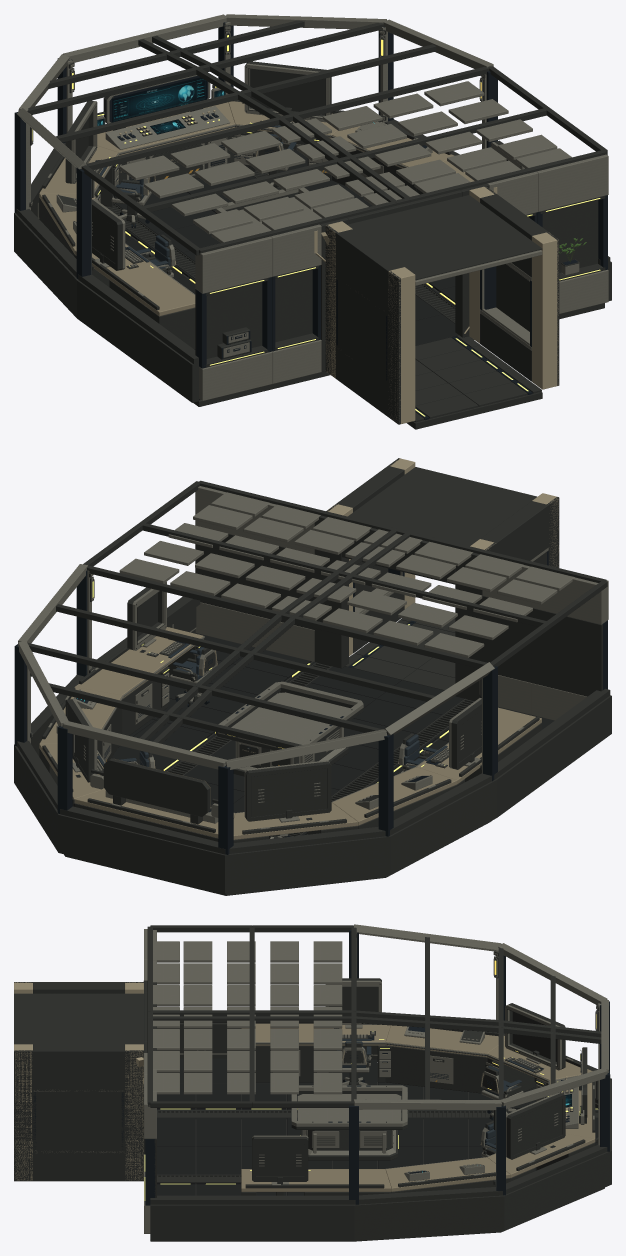
File: cruz-del-sur-bridge-interior.glb
The picture shows the model from 3 angles, top to bottom: view 1: azimuth 30°, elevation 25°; view 2: azimuth 150°, elevation 25°; view 3: azimuth 270°, elevation 25°; orthographic projection. The views are drawn at different scales.
Parts seen in each view (by area): view 1: BRIDGE_RUNTIME_BRIDGE_V15_Graphite_, BRIDGE_RUNTIME_BRIDGE_V15_Metal_, BRIDGE_RUNTIME_BRIDGE_V15_Gasket_, BRIDGE_RUNTIME_BRIDGE_V15_Ivory_, BRIDGE_RUNTIME_BRIDGE_Counter_finish_, BRIDGE_RUNTIME_BRIDGE_Deck_finish_, BRIDGE_RUNTIME_BRIDGE_Central_navigation_, BRIDGE_RUNTIME_BRIDGE_V15_Graphite_communications, BRIDGE_RUNTIME_BRIDGE_V15_Graphite_arcade, BRIDGE_RUNTIME_BRIDGE_V15_Graphite_computer, BRIDGE_RUNTIME_BRIDGE_Upholstery_, BRIDGE_RUNTIME_BRIDGE_V15_Amber_ (+3 smaller); view 2: BRIDGE_RUNTIME_BRIDGE_V15_Graphite_, BRIDGE_RUNTIME_BRIDGE_V15_Metal_, BRIDGE_RUNTIME_BRIDGE_Deck_finish_, BRIDGE_RUNTIME_BRIDGE_Counter_finish_, BRIDGE_RUNTIME_BRIDGE_V15_Gasket_, BRIDGE_RUNTIME_BRIDGE_V15_Metal_tactical, BRIDGE_RUNTIME_BRIDGE_V15_Graphite_computer, BRIDGE_RUNTIME_BRIDGE_V15_Graphite_arcade, BRIDGE_RUNTIME_BRIDGE_V15_Graphite_tactical, BRIDGE_RUNTIME_BRIDGE_V15_Graphite_personal, BRIDGE_RUNTIME_BRIDGE_V15_Ivory_, BRIDGE_RUNTIME_BRIDGE_Upholstery_ (+2 smaller); view 3: BRIDGE_RUNTIME_BRIDGE_V15_Graphite_, BRIDGE_RUNTIME_BRIDGE_V15_Metal_, BRIDGE_RUNTIME_BRIDGE_Deck_finish_, BRIDGE_RUNTIME_BRIDGE_Counter_finish_, BRIDGE_RUNTIME_BRIDGE_V15_Gasket_, BRIDGE_RUNTIME_BRIDGE_V15_Metal_tactical, BRIDGE_RUNTIME_BRIDGE_V15_Ivory_, BRIDGE_RUNTIME_BRIDGE_V15_Graphite_personal, BRIDGE_RUNTIME_BRIDGE_V15_Graphite_communications, BRIDGE_RUNTIME_BRIDGE_V15_Graphite_tactical, BRIDGE_RUNTIME_BRIDGE_V15_Graphite_computer, BRIDGE_RUNTIME_BRIDGE_V15_Graphite_arcade (+4 smaller).
Boxes of the visible parts, bbox=[...] form: BRIDGE_RUNTIME_BRIDGE_V15_Graphite_: bbox=[14, 20, 611, 429]; BRIDGE_RUNTIME_BRIDGE_V15_Metal_: bbox=[17, 14, 608, 400]; BRIDGE_RUNTIME_BRIDGE_V15_Gasket_: bbox=[14, 22, 607, 420]; BRIDGE_RUNTIME_BRIDGE_V15_Ivory_: bbox=[98, 110, 558, 423]; BRIDGE_RUNTIME_BRIDGE_Counter_finish_: bbox=[39, 101, 474, 316]; BRIDGE_RUNTIME_BRIDGE_Deck_finish_: bbox=[115, 148, 458, 400]; BRIDGE_RUNTIME_BRIDGE_Central_navigation_: bbox=[97, 77, 225, 134]; BRIDGE_RUNTIME_BRIDGE_V15_Graphite_communications: bbox=[232, 61, 344, 137]; BRIDGE_RUNTIME_BRIDGE_V15_Graphite_arcade: bbox=[92, 199, 159, 310]; BRIDGE_RUNTIME_BRIDGE_V15_Graphite_computer: bbox=[42, 100, 120, 188]; BRIDGE_RUNTIME_BRIDGE_Upholstery_: bbox=[99, 125, 296, 268]; BRIDGE_RUNTIME_BRIDGE_V15_Amber_: bbox=[32, 35, 600, 416]; BRIDGE_RUNTIME_BRIDGE_V15_Graphite_: bbox=[14, 458, 611, 895]; BRIDGE_RUNTIME_BRIDGE_V15_Metal_: bbox=[18, 486, 608, 838]; BRIDGE_RUNTIME_BRIDGE_Deck_finish_: bbox=[112, 633, 554, 835]; BRIDGE_RUNTIME_BRIDGE_Counter_finish_: bbox=[39, 627, 541, 839]; BRIDGE_RUNTIME_BRIDGE_V15_Gasket_: bbox=[14, 551, 607, 854]; BRIDGE_RUNTIME_BRIDGE_V15_Metal_tactical: bbox=[217, 681, 363, 770]; BRIDGE_RUNTIME_BRIDGE_V15_Graphite_computer: bbox=[242, 761, 346, 834]; BRIDGE_RUNTIME_BRIDGE_V15_Graphite_arcade: bbox=[435, 699, 539, 776]; BRIDGE_RUNTIME_BRIDGE_V15_Graphite_tactical: bbox=[215, 687, 363, 776]; BRIDGE_RUNTIME_BRIDGE_V15_Graphite_personal: bbox=[79, 583, 176, 722]; BRIDGE_RUNTIME_BRIDGE_V15_Ivory_: bbox=[114, 458, 559, 808]; BRIDGE_RUNTIME_BRIDGE_Upholstery_: bbox=[97, 643, 447, 767]; BRIDGE_RUNTIME_BRIDGE_V15_Graphite_: bbox=[14, 925, 611, 1241]; BRIDGE_RUNTIME_BRIDGE_V15_Metal_: bbox=[34, 924, 608, 1233]; BRIDGE_RUNTIME_BRIDGE_Deck_finish_: bbox=[157, 1058, 598, 1195]; BRIDGE_RUNTIME_BRIDGE_Counter_finish_: bbox=[241, 1023, 595, 1191]; BRIDGE_RUNTIME_BRIDGE_V15_Gasket_: bbox=[33, 930, 609, 1205]; BRIDGE_RUNTIME_BRIDGE_V15_Metal_tactical: bbox=[291, 1085, 407, 1155]; BRIDGE_RUNTIME_BRIDGE_V15_Ivory_: bbox=[14, 981, 572, 1180]; BRIDGE_RUNTIME_BRIDGE_V15_Graphite_personal: bbox=[245, 1136, 384, 1188]; BRIDGE_RUNTIME_BRIDGE_V15_Graphite_communications: bbox=[507, 1093, 585, 1170]; BRIDGE_RUNTIME_BRIDGE_V15_Graphite_tactical: bbox=[291, 1086, 407, 1160]; BRIDGE_RUNTIME_BRIDGE_V15_Graphite_computer: bbox=[485, 1003, 580, 1073]; BRIDGE_RUNTIME_BRIDGE_V15_Graphite_arcade: bbox=[255, 978, 381, 1072].
Size of the model in its own units: 9.92 by 3.62 by 13.81.
13 materials, 6 textured.
